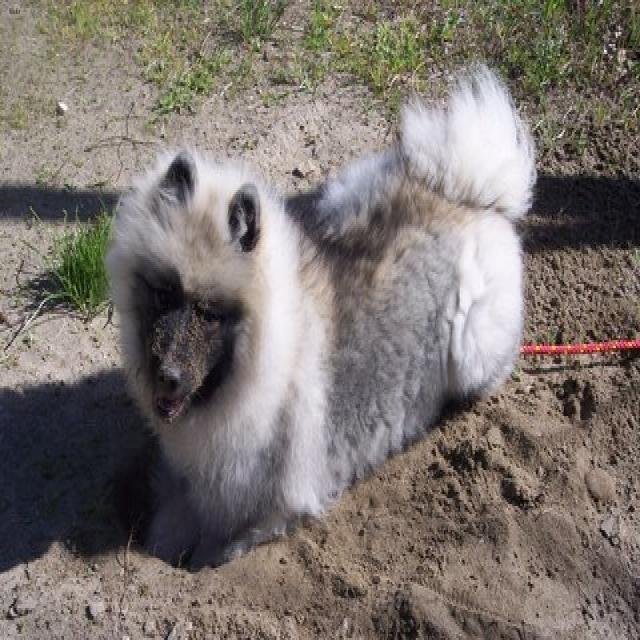dog-keeshond: (99, 54, 543, 580)
